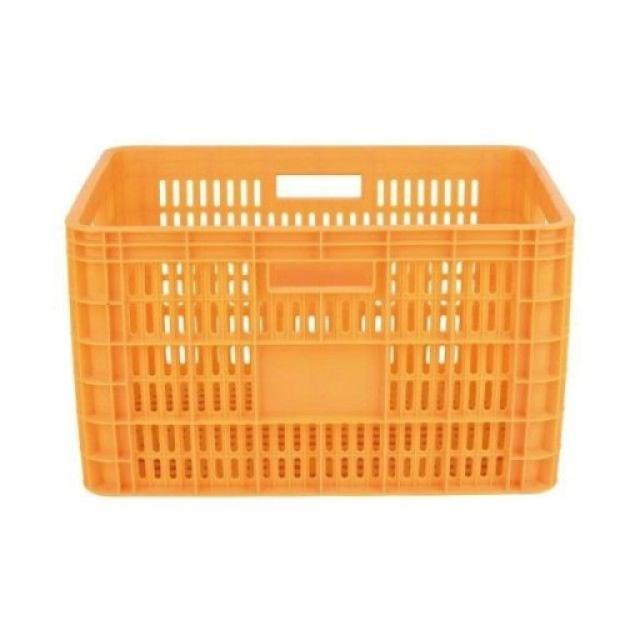basket: (66, 146, 575, 496)
